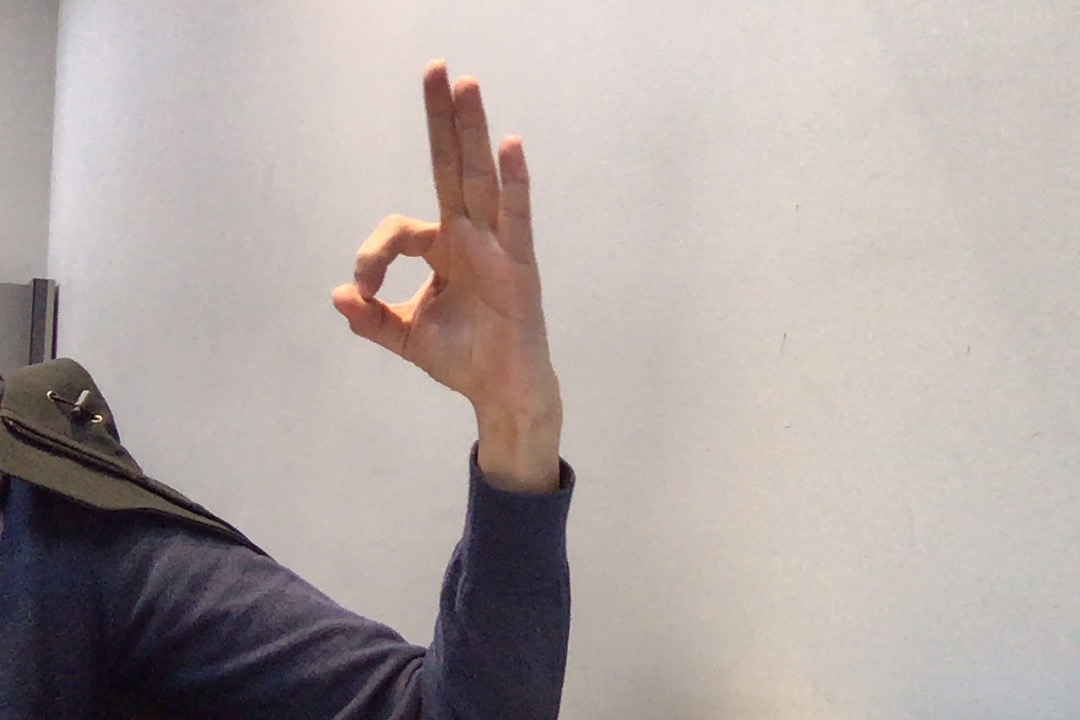oksign: (321, 50, 555, 402)
